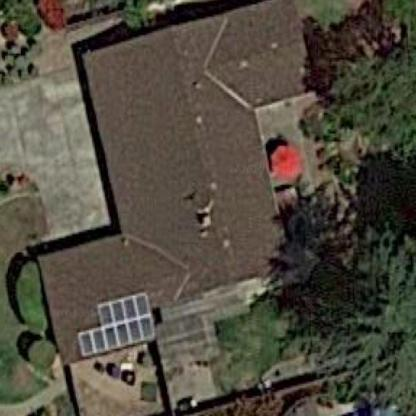solar_panel: (75, 292, 163, 351)
